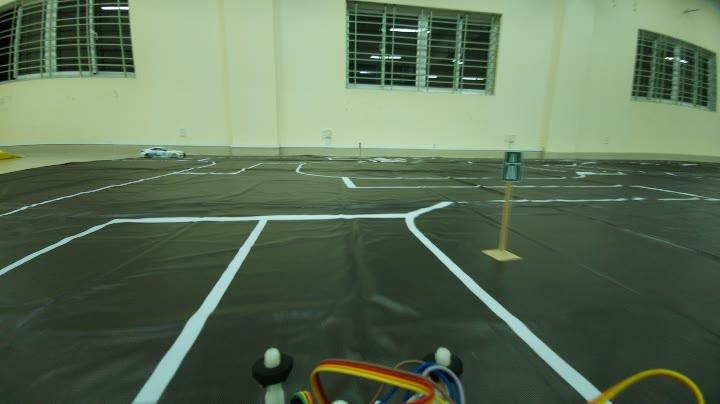highway_entry: (491, 144, 533, 193)
